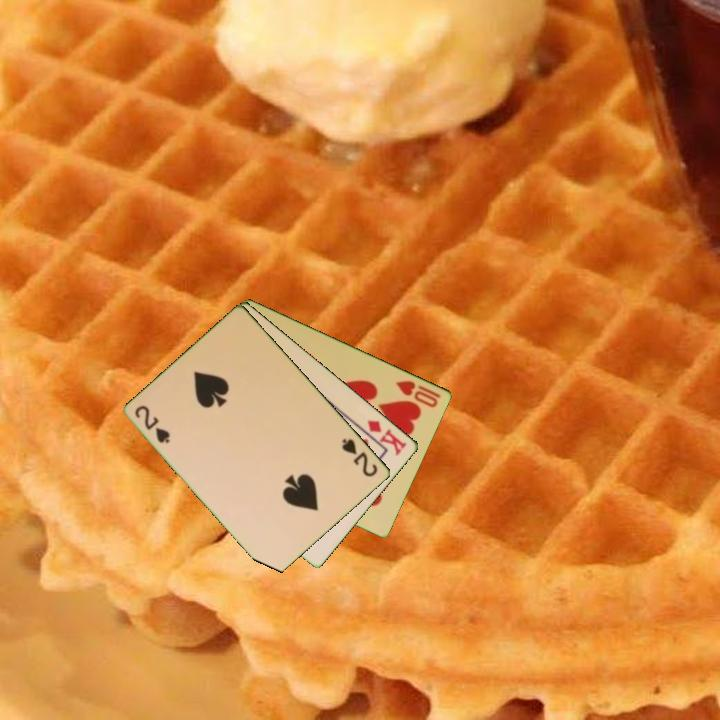10h: (392, 376, 444, 410)
2s: (338, 435, 381, 480), (131, 402, 174, 446)
Kd: (364, 416, 410, 459)
